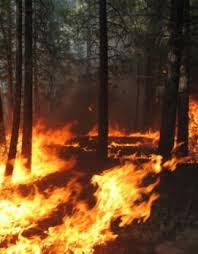fire: (9, 99, 172, 250)
